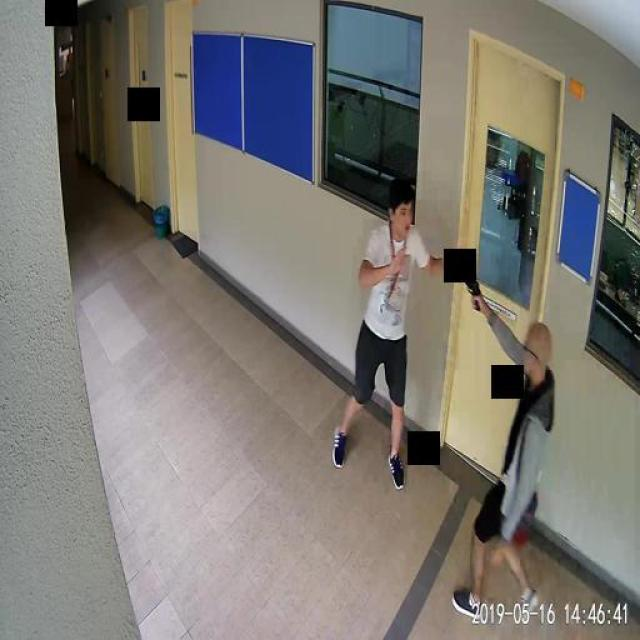gun: (455, 266, 479, 308)
